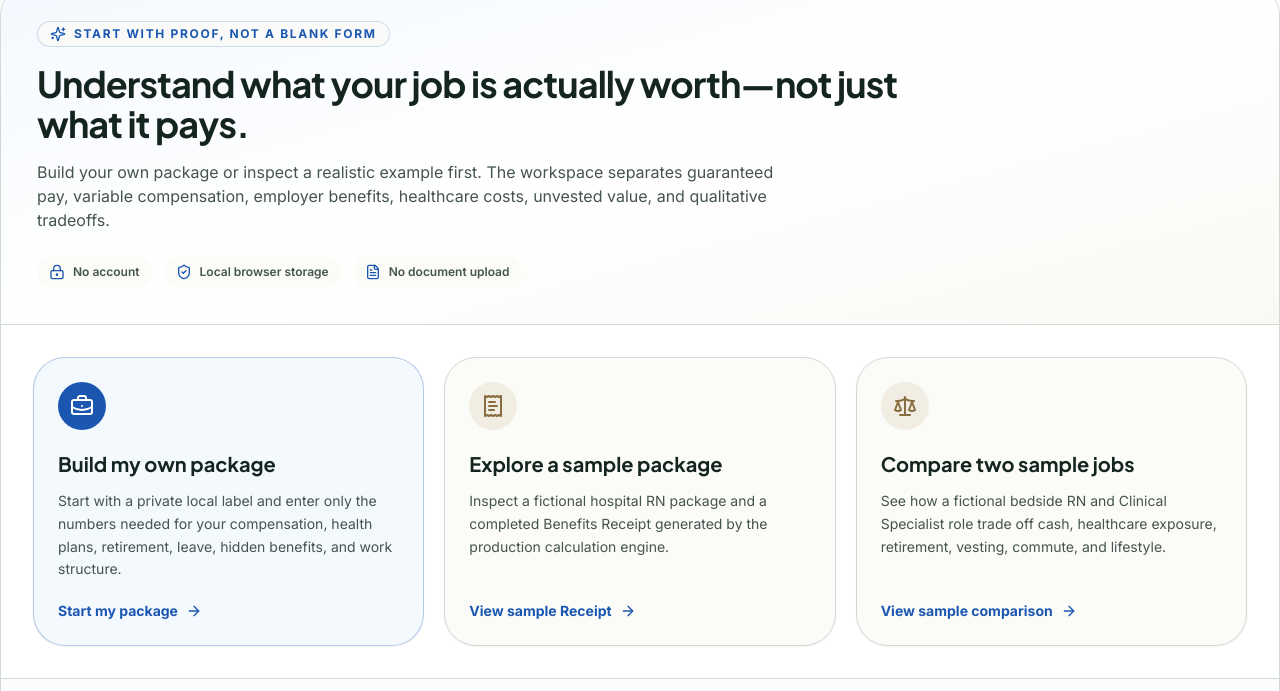
Test: BenefitsCommandCenterActivation › opens the real workspace when the visitor starts their own package
Click the button "Build my own package".
click(229, 502)  # box 33,357 -> 424,646
(page scrolled)
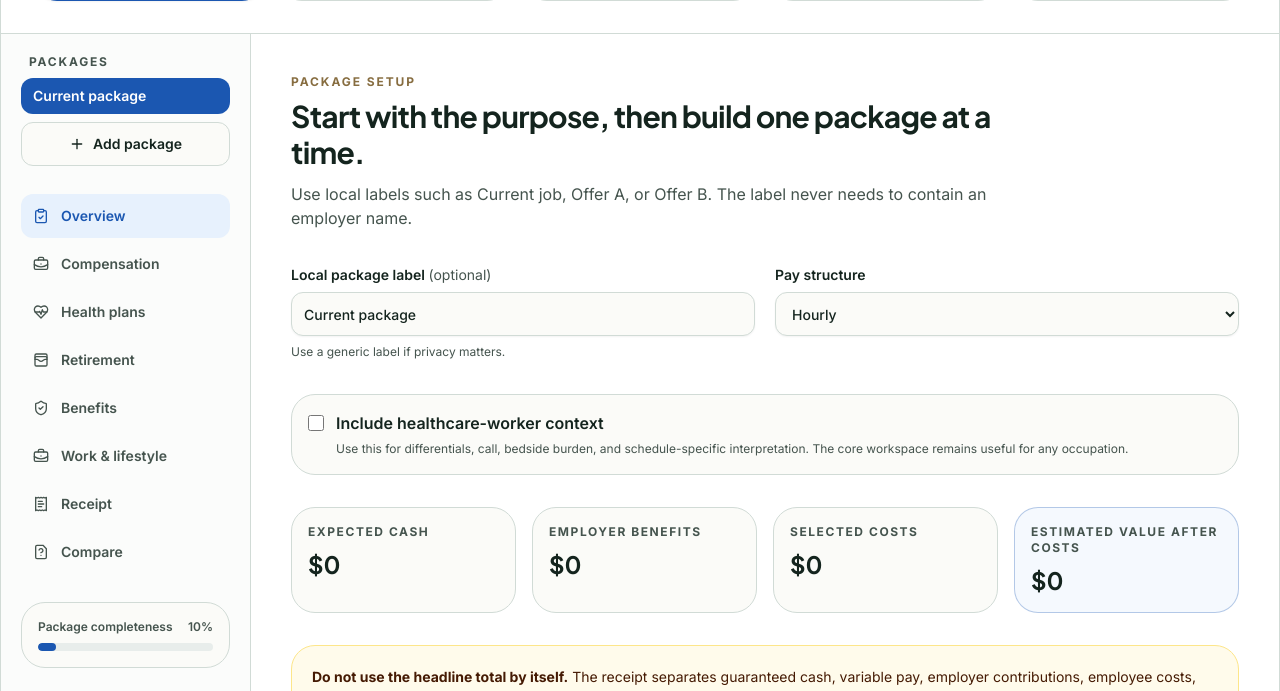
Expected: the navigation bar named "workspace modules" is shown, 21,194 -> 230,574
